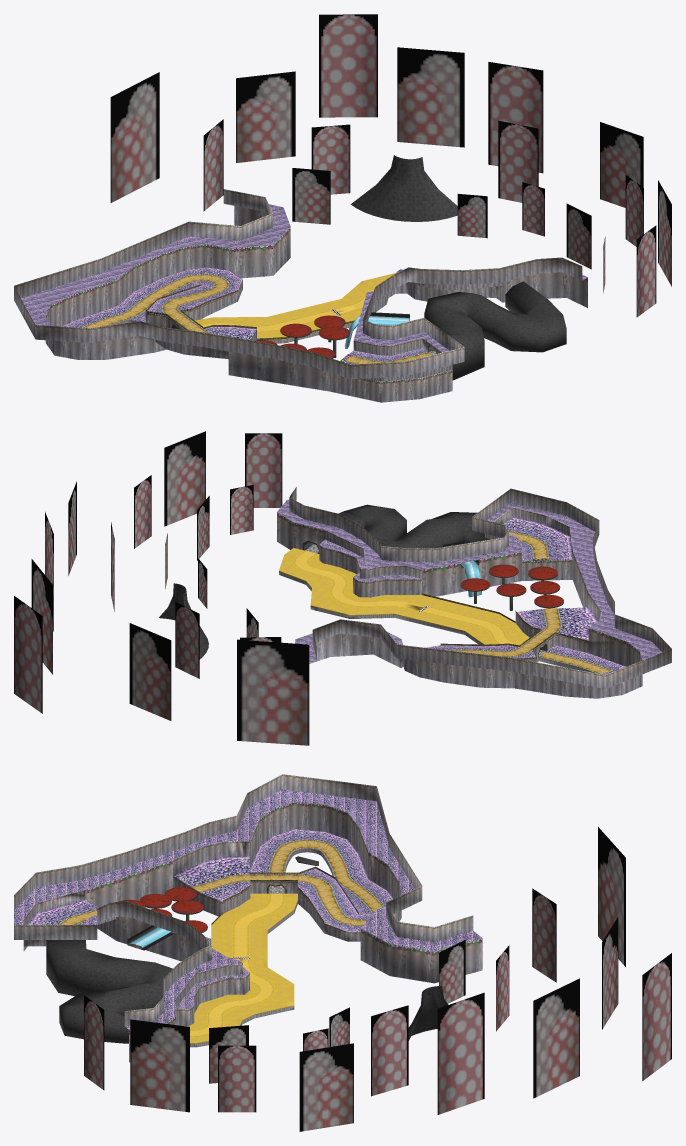
3 renders of one model, top to bottom at view 1: azimuth 30°, elevation 25°; view 2: azimuth 150°, elevation 25°; view 3: azimuth 270°, elevation 25°, orthographic. The views are drawn at different scales.
Parts seen in each view (by area): view 1: coursefix.018, coursefix.014, coursefix.009, coursefix.003, coursefix.008, coursefix.010, coursefix.004, coursefix.005, coursefix.012; view 2: coursefix.018, coursefix.014, coursefix.003, coursefix.010, coursefix.009, coursefix.005, coursefix.008, coursefix.004, coursefix.017, coursefix.012; view 3: coursefix.018, coursefix.014, coursefix.003, coursefix.009, coursefix.010, coursefix.008, coursefix.005, coursefix.004, coursefix.012, coursefix.017.
Boxes of the visible parts, x1,y1,x2,y2 form: coursefix.018: (110, 14, 671, 317); coursefix.014: (14, 189, 587, 402); coursefix.009: (171, 155, 566, 380); coursefix.003: (21, 204, 587, 364); coursefix.008: (81, 274, 431, 364); coursefix.010: (194, 273, 395, 338); coursefix.004: (255, 315, 350, 358); coursefix.005: (200, 287, 374, 332); coursefix.012: (145, 284, 354, 340); coursefix.018: (14, 431, 309, 745); coursefix.014: (277, 487, 671, 698); coursefix.003: (277, 499, 661, 674); coursefix.010: (279, 548, 529, 644); coursefix.009: (159, 504, 549, 659); coursefix.005: (293, 550, 519, 645); coursefix.008: (446, 530, 613, 673); coursefix.004: (460, 564, 563, 607); coursefix.017: (279, 571, 483, 644); coursefix.012: (422, 593, 588, 659); coursefix.018: (84, 827, 671, 1131); coursefix.014: (14, 774, 482, 1062); coursefix.003: (14, 789, 482, 1030); coursefix.009: (46, 856, 448, 1043); coursefix.010: (184, 893, 297, 1042); coursefix.008: (59, 839, 384, 926); coursefix.005: (190, 893, 285, 1037); coursefix.004: (118, 887, 207, 932); coursefix.012: (211, 866, 358, 924); coursefix.017: (190, 900, 297, 1047).
Size of what is drawn, in the model's own units: 153703 by 25308 by 137598.
Materials: 18 (17 with a texture image).
